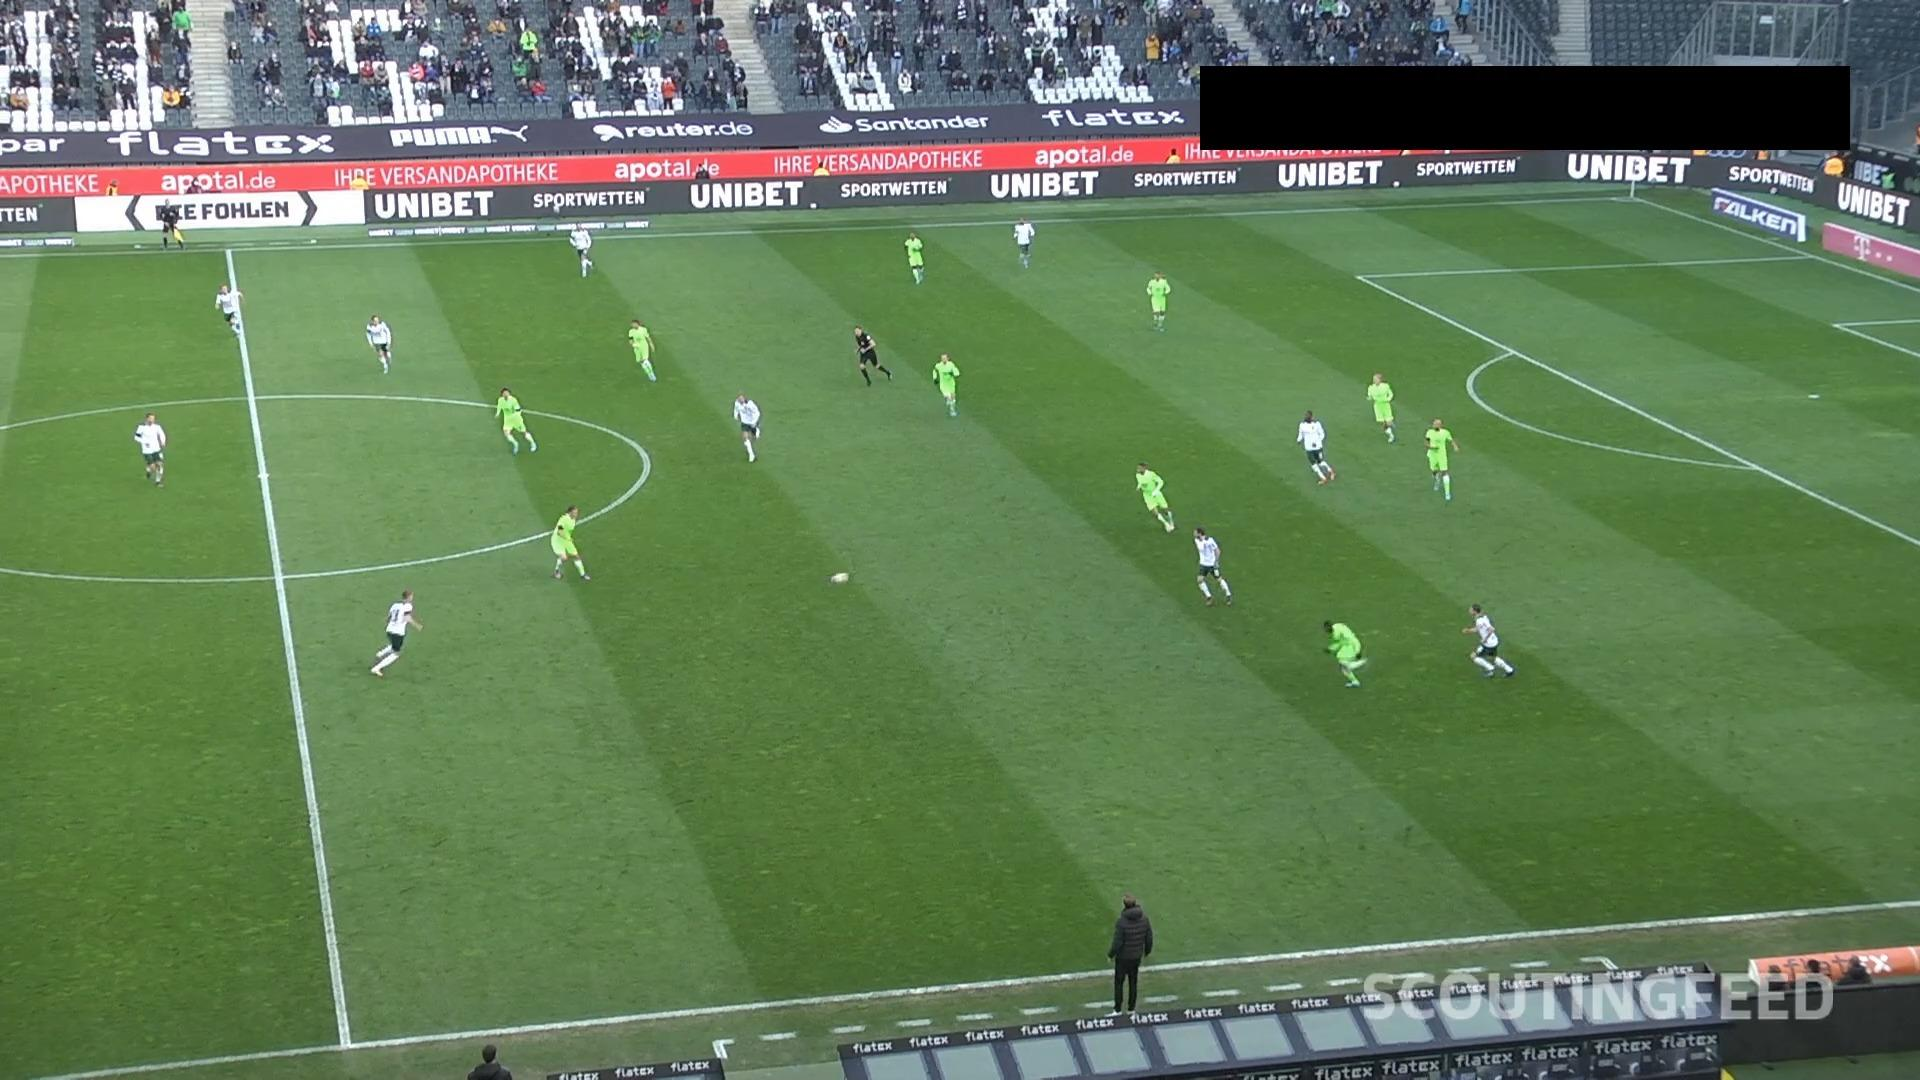ball: (827, 571, 851, 585)
